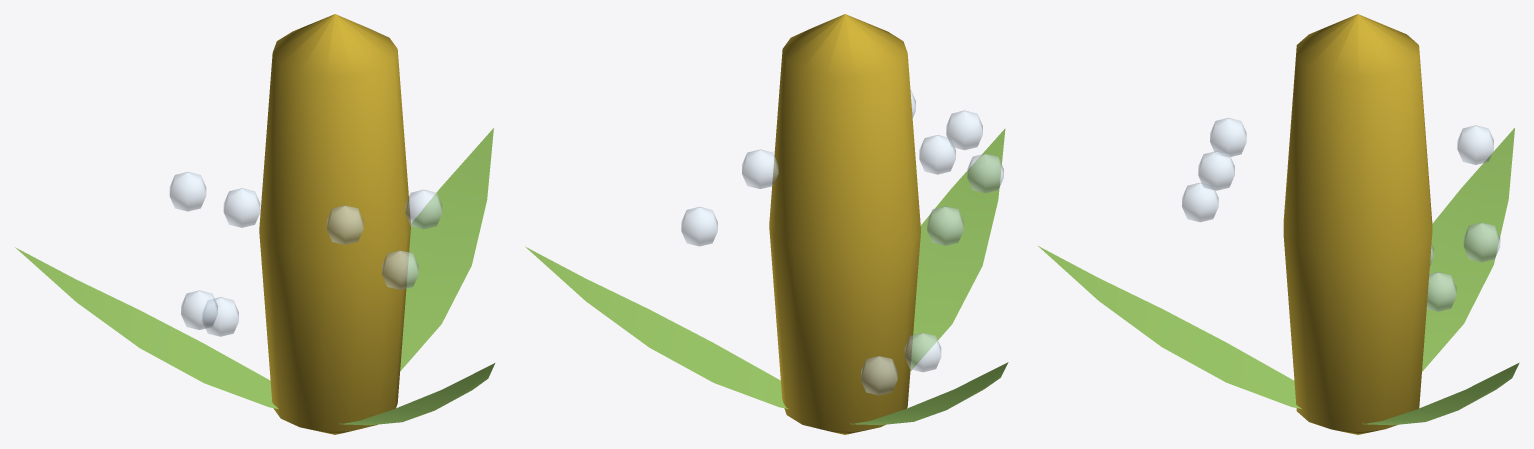
File: fruit-corn-wet.gltf
The picture shows the model from 3 angles, left to right: view 1: azimuth 30°, elevation 25°; view 2: azimuth 150°, elevation 25°; view 3: azimuth 270°, elevation 25°; orthographic projection.
Size of the model in its own units: 0.6146 by 0.513 by 0.5332.
